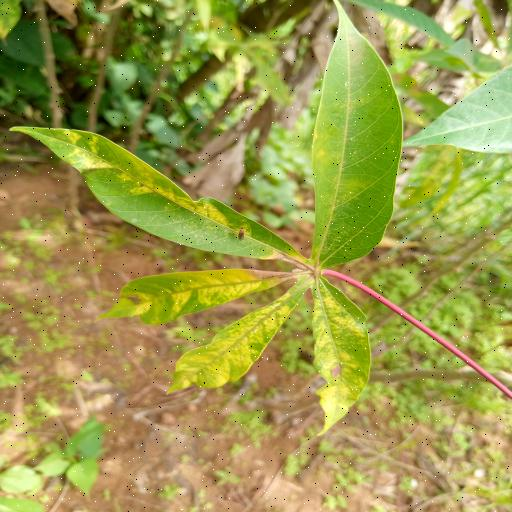Cassava_Mosaic: (6, 0, 406, 435)
